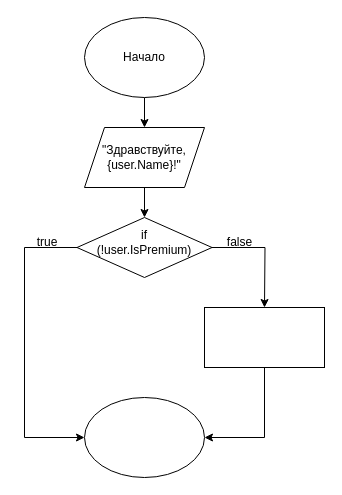
Image size: 342x495. Some labels were removed from this diagram. The shapes that lost their labels are listed below. From the top down, each one's centre as x and y in pixels, then its label:
the point at 264,337: ShowAds();
the point at 144,437: Конец
